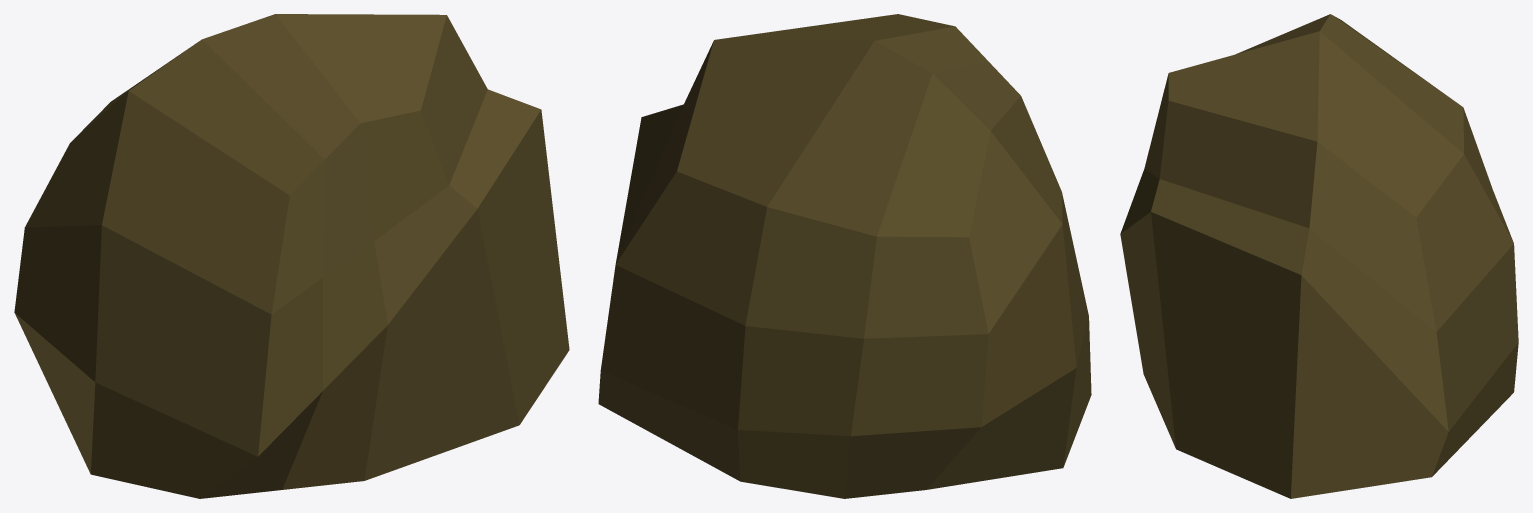
File: Lava_Rock_1.FBX
3 views of the same model, side by side, from view 1: azimuth 30°, elevation 25°; view 2: azimuth 150°, elevation 25°; view 3: azimuth 270°, elevation 25° (orthographic). The views are drawn at different scales.
Visible parts, largest first — view 1: Lava_Rock_1; view 2: Lava_Rock_1; view 3: Lava_Rock_1.
Part boxes in pixels (box(x1,y1,x2,y2)): Lava_Rock_1: box(14, 14, 569, 498); Lava_Rock_1: box(598, 14, 1091, 498); Lava_Rock_1: box(1120, 14, 1518, 498).
Bounding box in the file's own units: 44.88 × 36.94 × 36.82.
